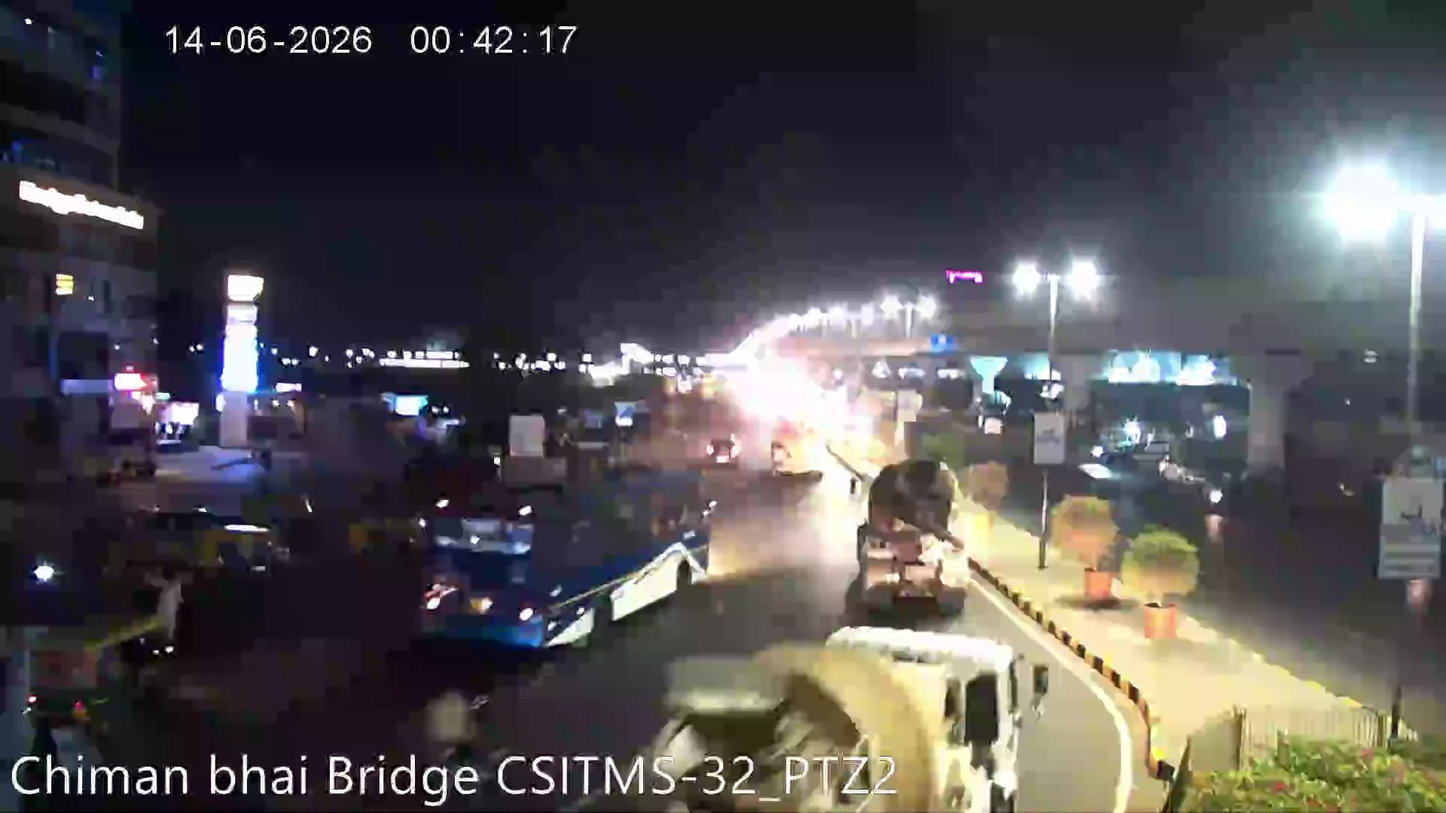auto_rickshaw: (7, 605, 194, 731)
bus: (395, 458, 729, 650)
car: (703, 431, 741, 468)
truck: (844, 445, 970, 622), (854, 495, 964, 616)
